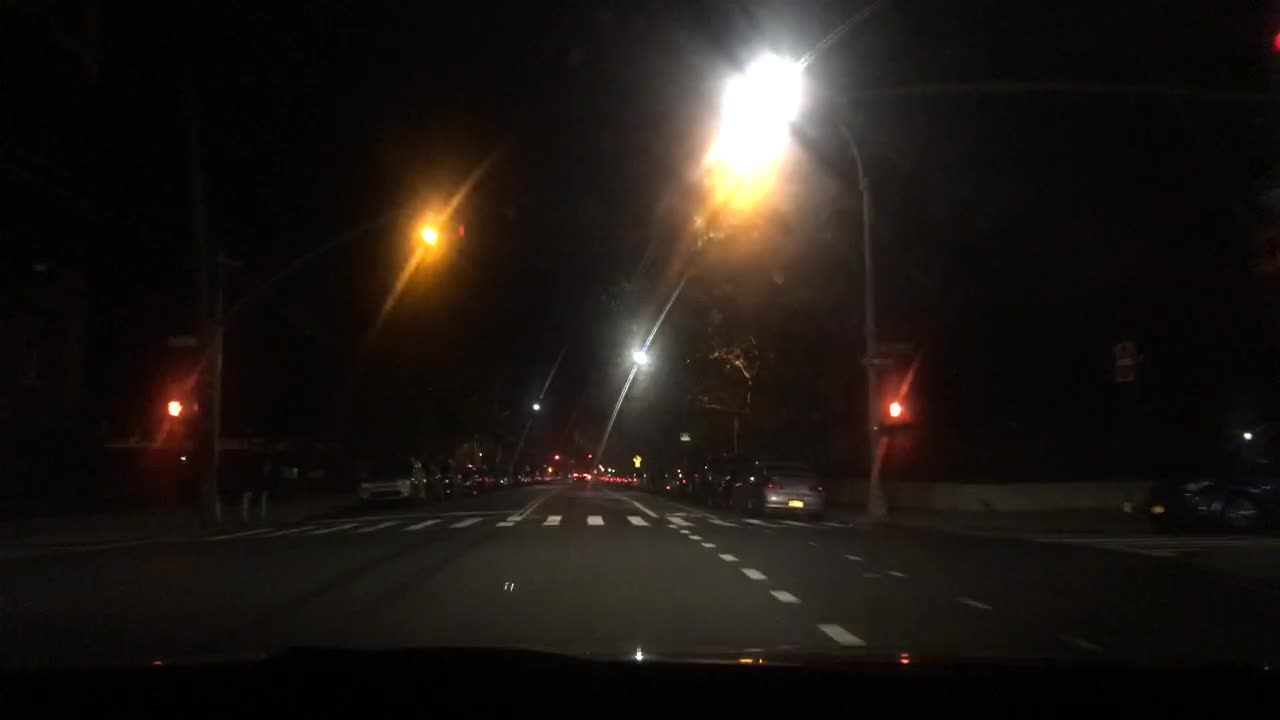car: (1116, 461, 1277, 535), (722, 455, 831, 523), (351, 452, 427, 508), (691, 458, 748, 502), (665, 459, 696, 498), (423, 458, 452, 499), (452, 459, 476, 489), (475, 462, 495, 491), (534, 470, 558, 485), (568, 467, 592, 482), (494, 471, 510, 486), (614, 474, 633, 485), (518, 471, 531, 486), (598, 473, 614, 480)
traffic light: (415, 213, 441, 264), (443, 221, 463, 261), (881, 397, 903, 427), (164, 396, 187, 418), (553, 451, 562, 463)
traffic sign: (1113, 341, 1139, 383), (861, 353, 899, 368), (166, 334, 201, 348), (878, 339, 917, 351), (630, 454, 643, 469), (675, 432, 690, 442)
